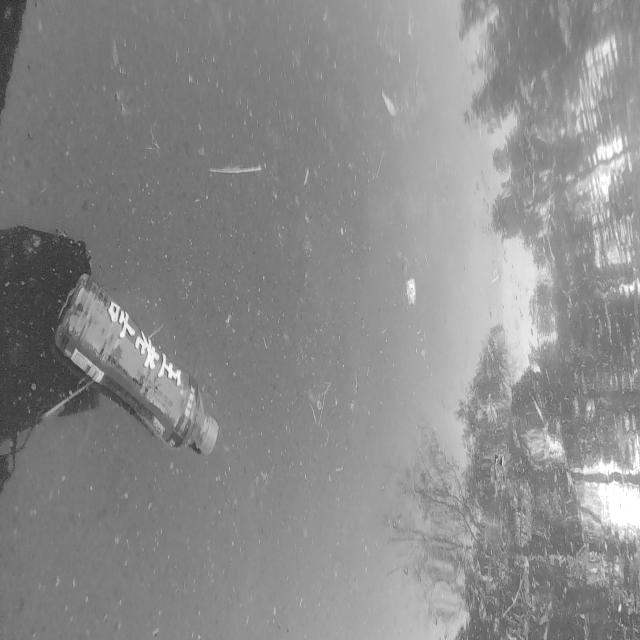bottle: (47, 266, 249, 466)
